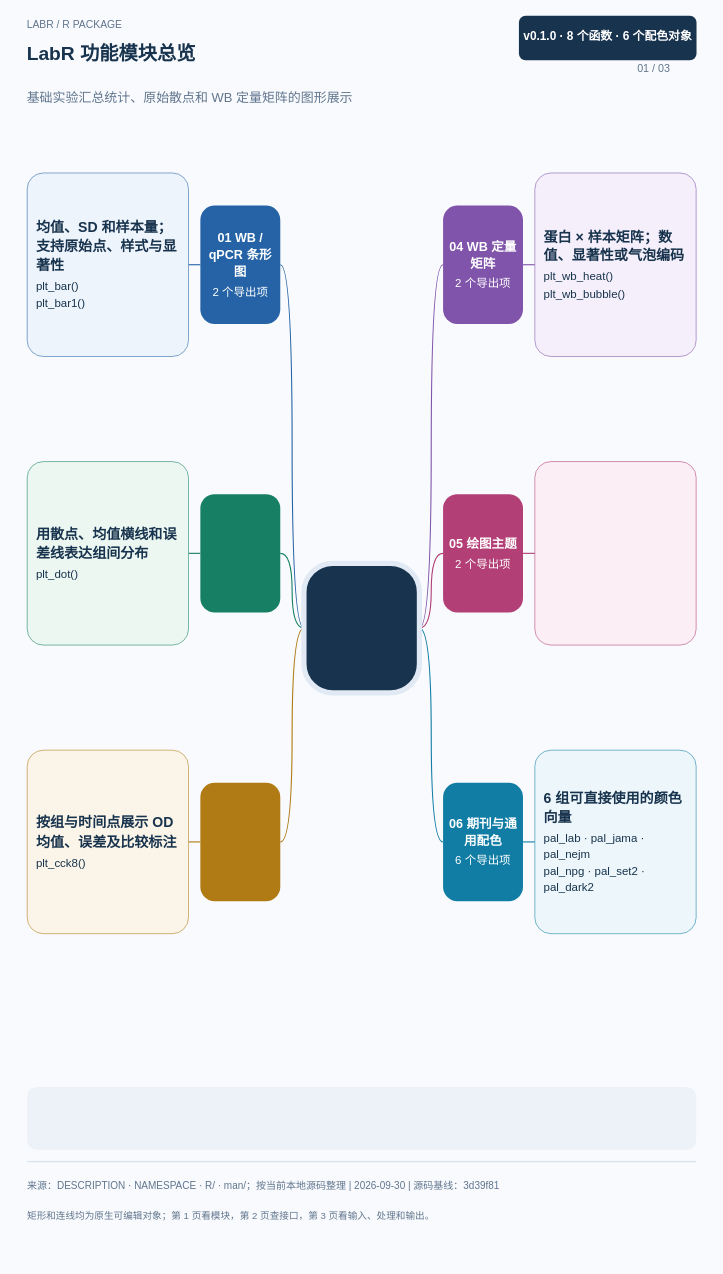
Image size: 723x1274. Some labels were removed from this diagram. Here are the shapes that lost their labels. From the top down, the centre of each, then its label:
the point at 240,553: 02 散点与均值横线 1 个导出项
the point at 615,553: 默认 ggprism 风格与轻量 theme_classic 风格 theme_lab() theme_lab2()
the point at 361,628: LabR 基础实验可视化 WB · qPCR · CCK-8
the point at 240,842: 03 CCK-8 增殖曲线 1 个导出项
the point at 361,1118: 阅读提示 14 个导出项 = 8 个函数 + 6 个调色板向量；调色板对象无须加括号调用。
